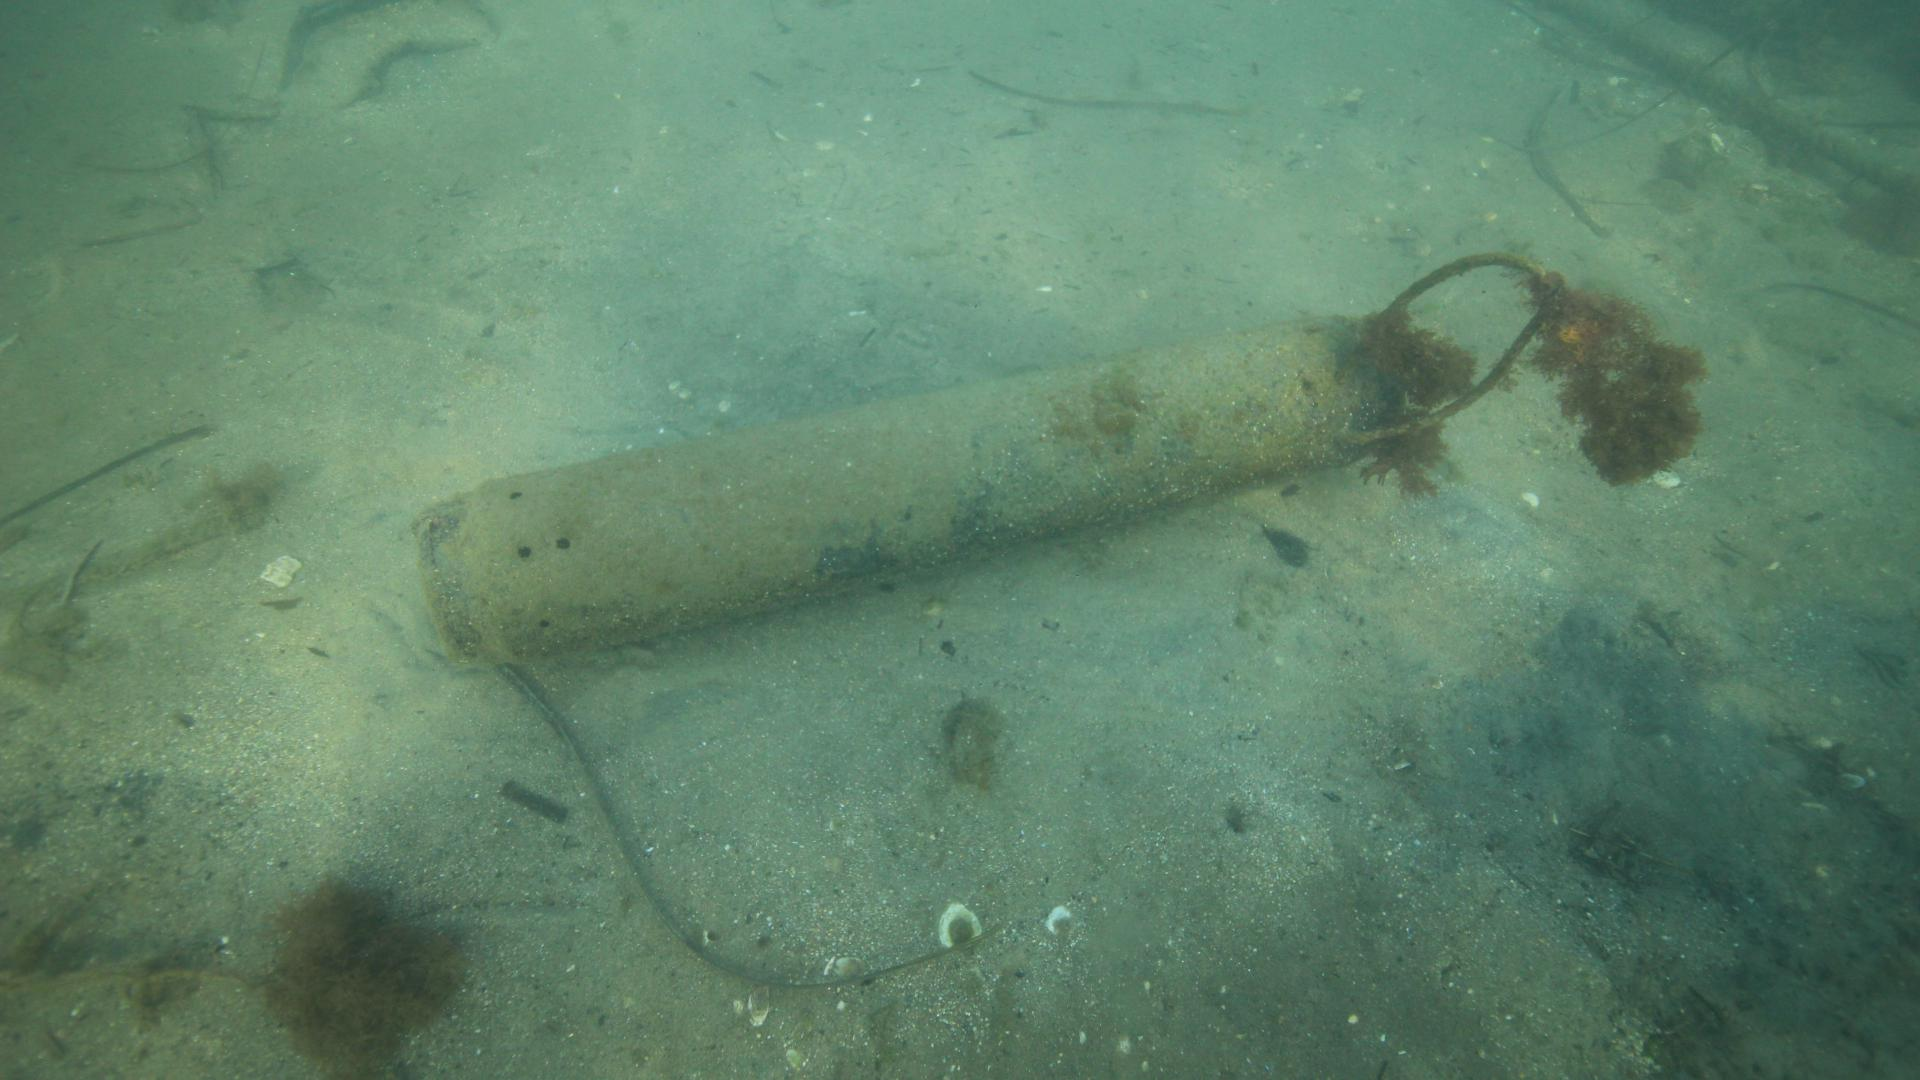eel fish trap: (415, 311, 1379, 669)
rope: (1556, 0, 1920, 196), (1341, 251, 1549, 443)
